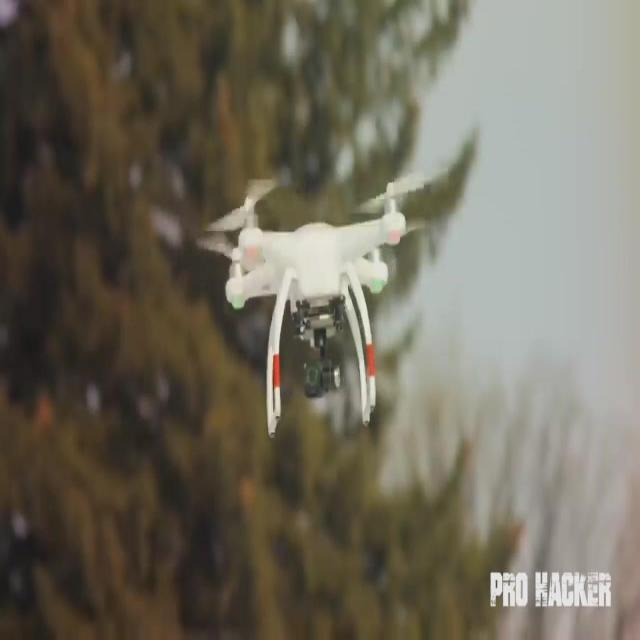UAV: (198, 172, 442, 438)
